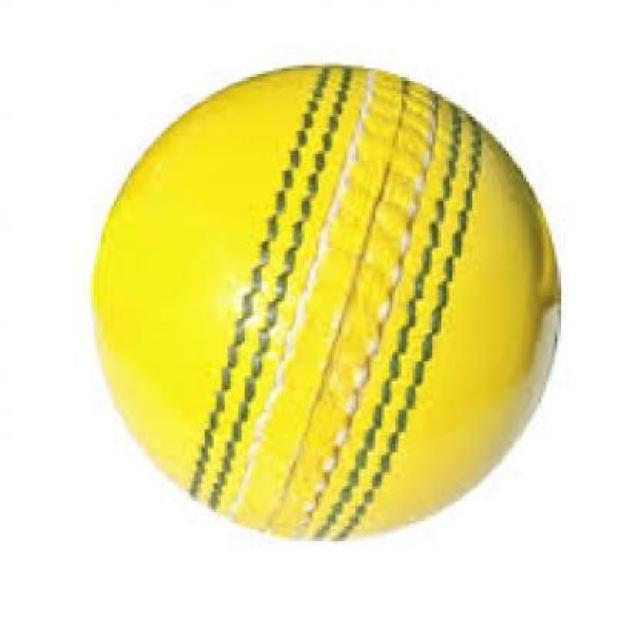ball: (76, 26, 586, 578)
